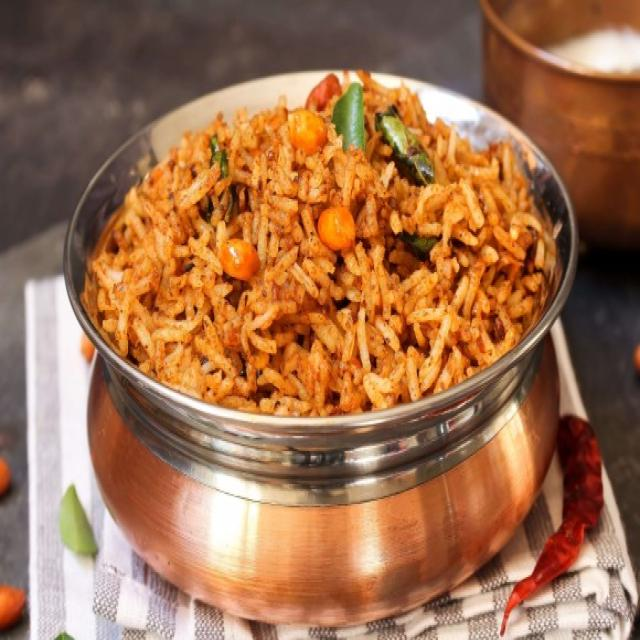puliyogare: (76, 52, 560, 431)
